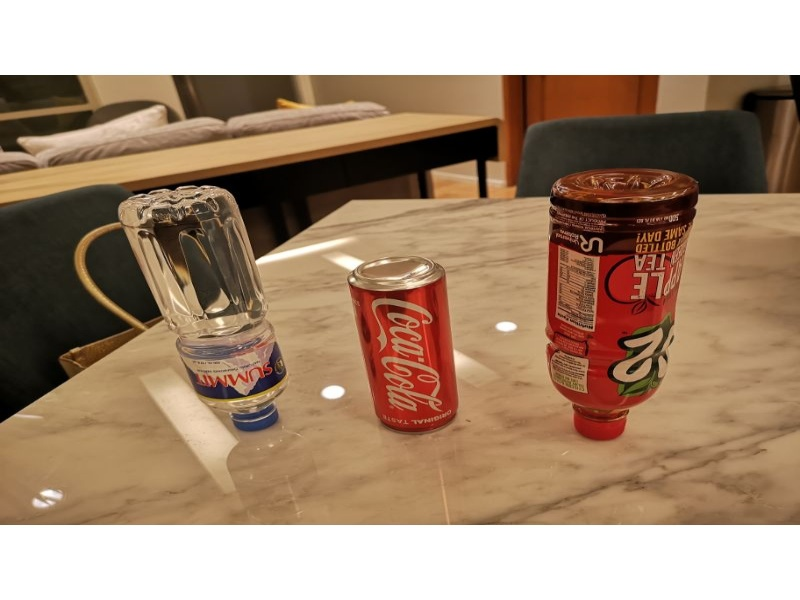PET #1: (542, 163, 696, 447), (120, 185, 290, 434)
